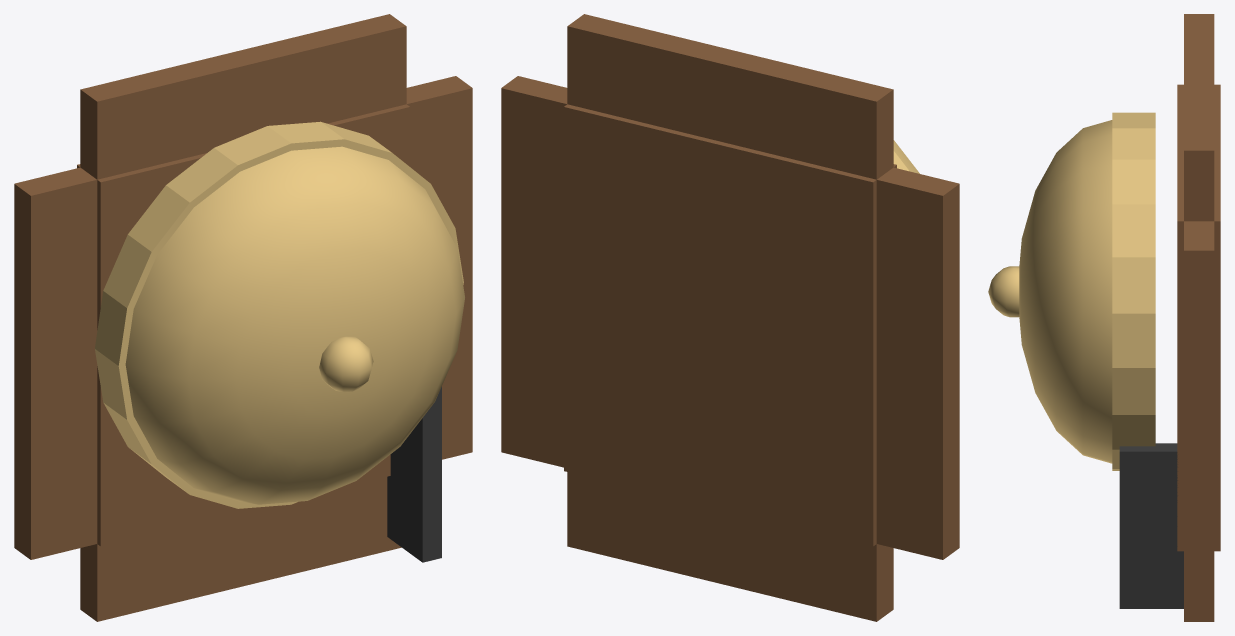
The model's file is RingBell.glb.
The picture shows the model from 3 angles, left to right: view 1: azimuth 30°, elevation 25°; view 2: azimuth 150°, elevation 25°; view 3: azimuth 270°, elevation 25°; orthographic projection. The views are drawn at different scales.
Parts seen in each view (by area): view 1: RingBell; view 2: RingBell; view 3: RingBell.
Boxes of the visible parts, bbox=[...] form: RingBell: bbox=[14, 14, 472, 621]; RingBell: bbox=[501, 14, 959, 621]; RingBell: bbox=[988, 14, 1220, 621].
Bounding box in the file's own units: 0.32 × 0.36 × 0.161.
